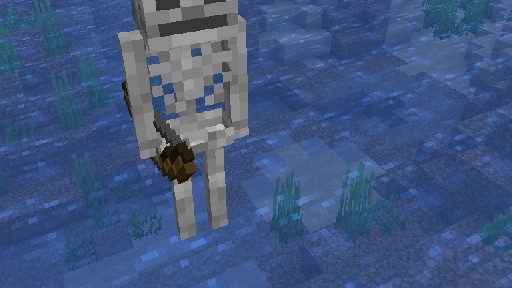skeleton: (116, 0, 249, 239)
